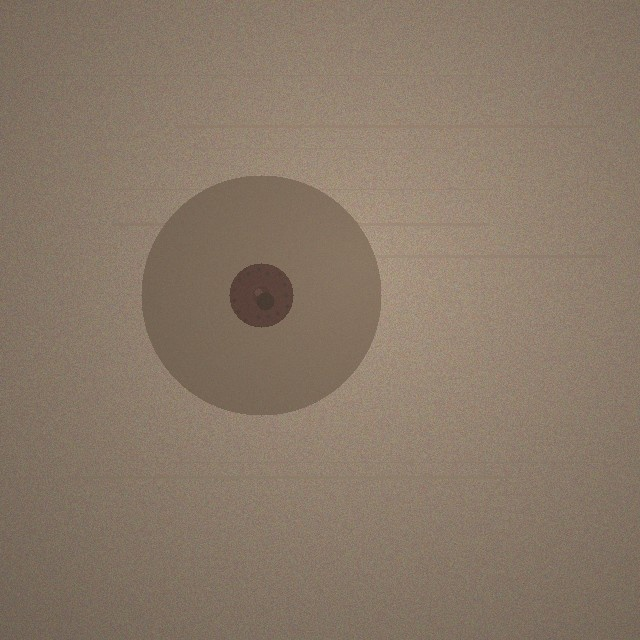cold_weld: (141, 175, 381, 415)
